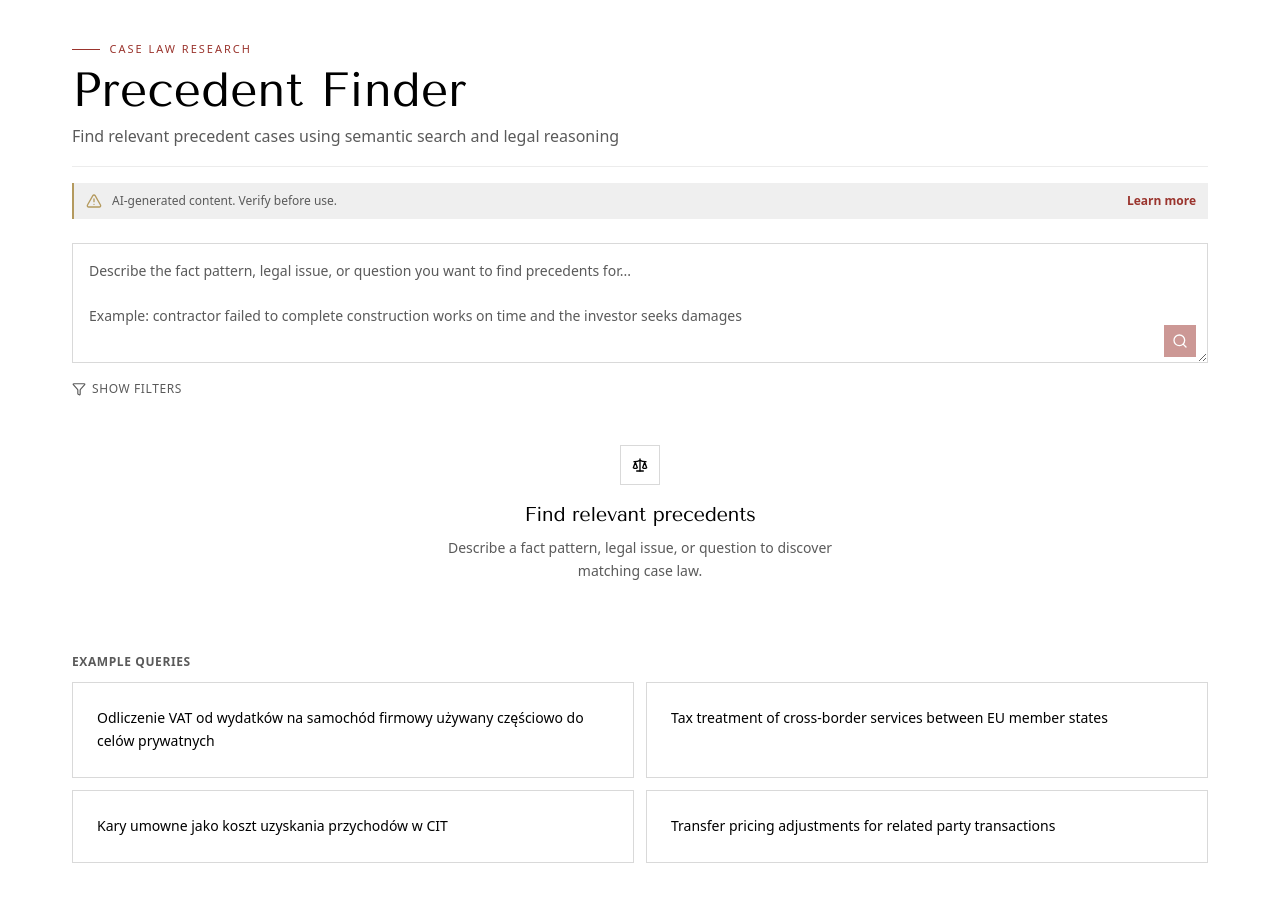
Test: precedents page — cohort block › shows the resolved-case banner when the query matched a docket
Replace the text in the text box with "a juvenile drug appeal with three co-defendants". click: (640, 303)
box: [72,243,1208,363]
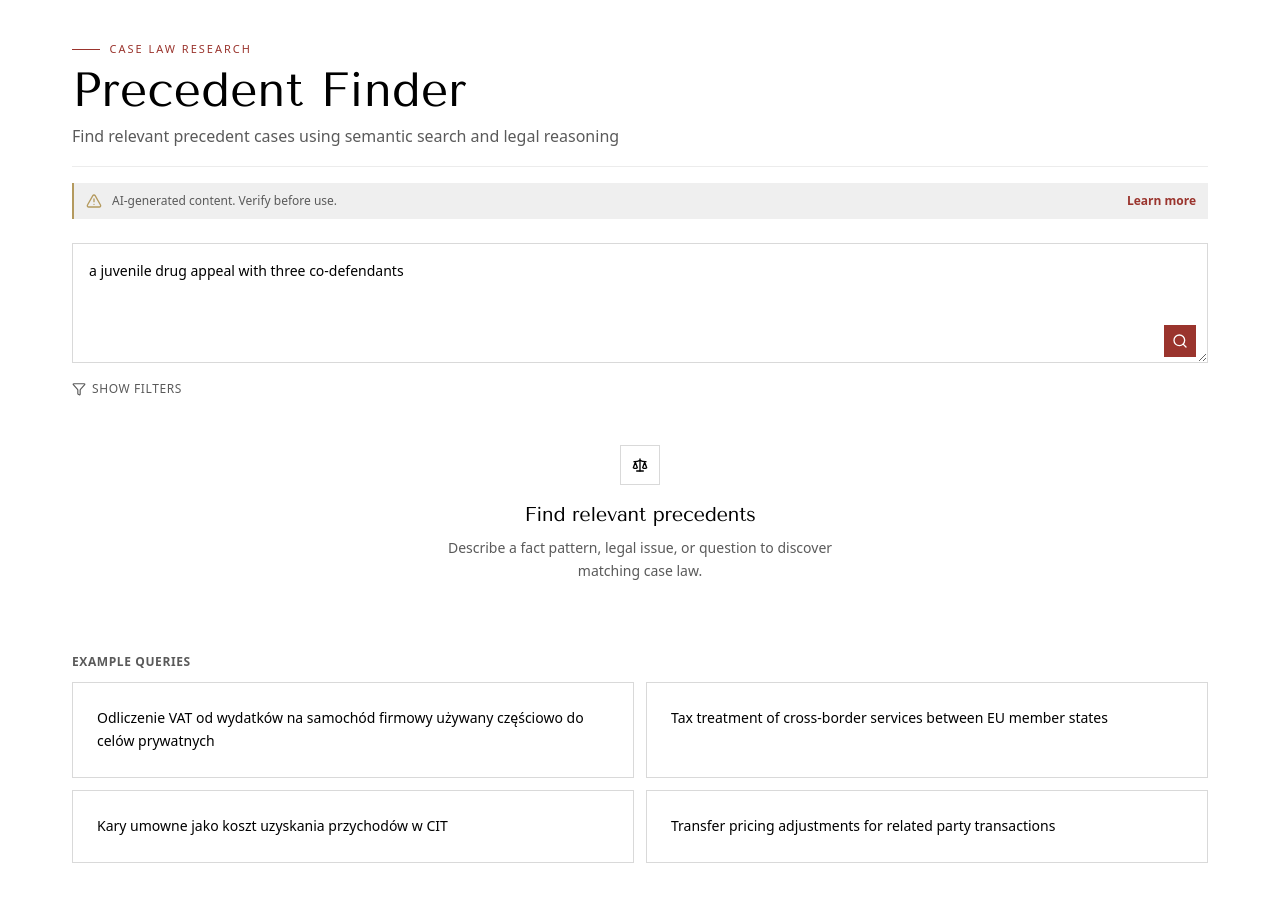
Click the button named "search for precedents". click: (1180, 341)
box: [1164,325,1196,357]
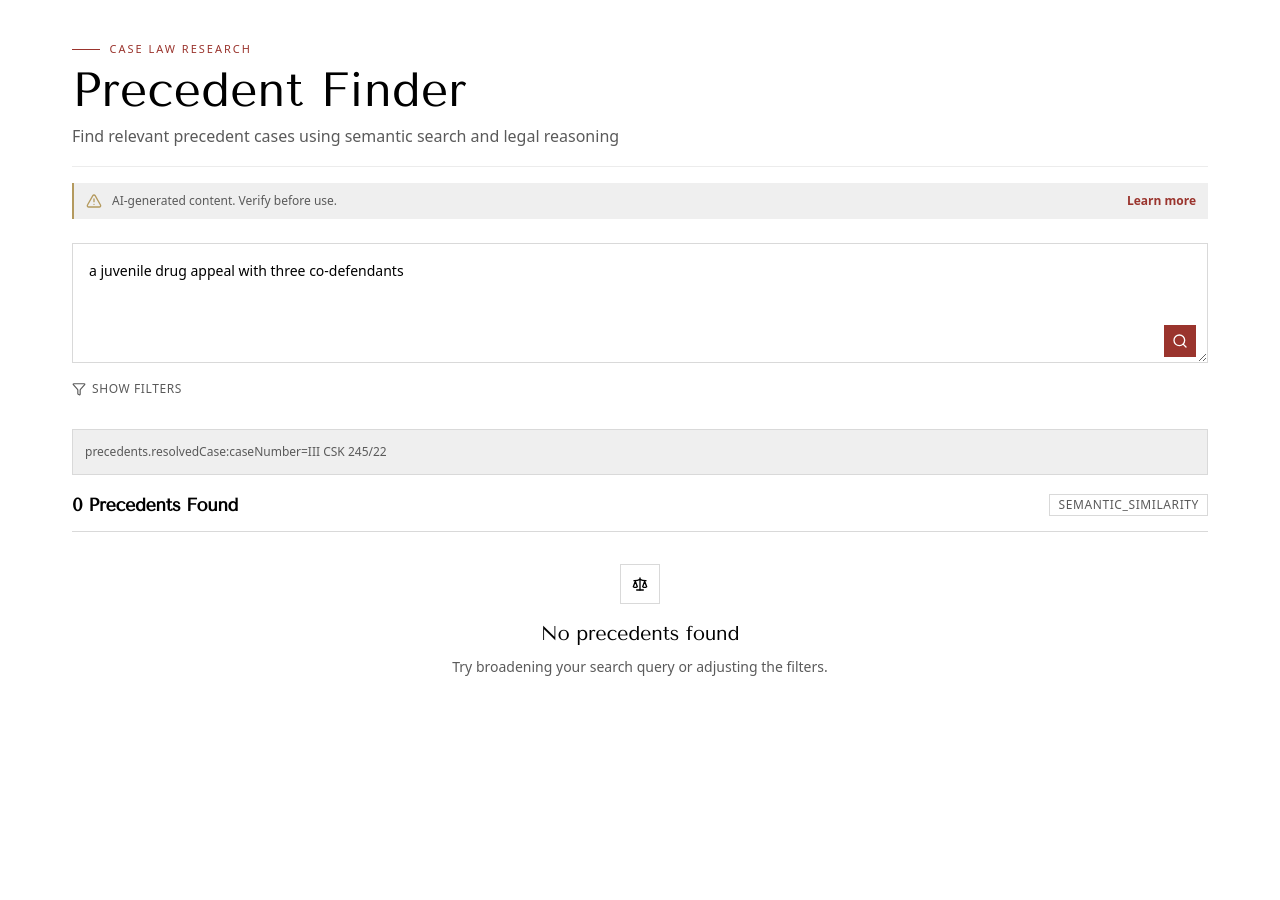
Result: the text "precedents.resolvedCase:caseNumber=III CSK 245/22" is shown at [72,429,1208,475]
